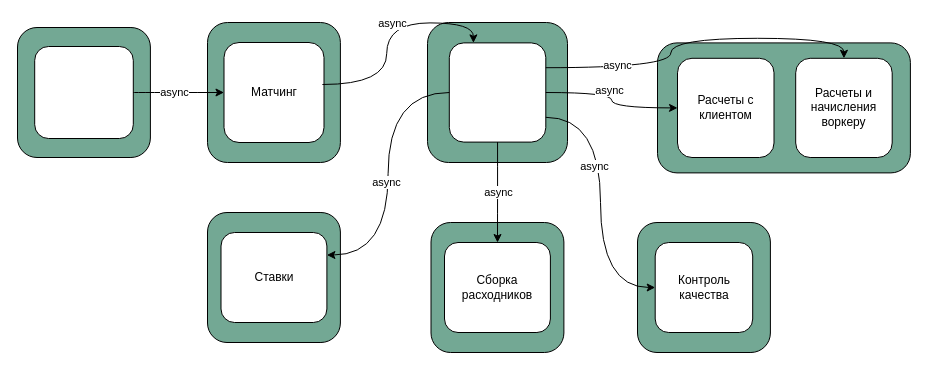
Some shapes in this 928 by 370 pixel diagram are drawn without their labels. The centre of each missing label's shape, as x and y in pixels:
Выполнение заказа: (497,92)
Тестирование и определение характеристик: (83,92)
